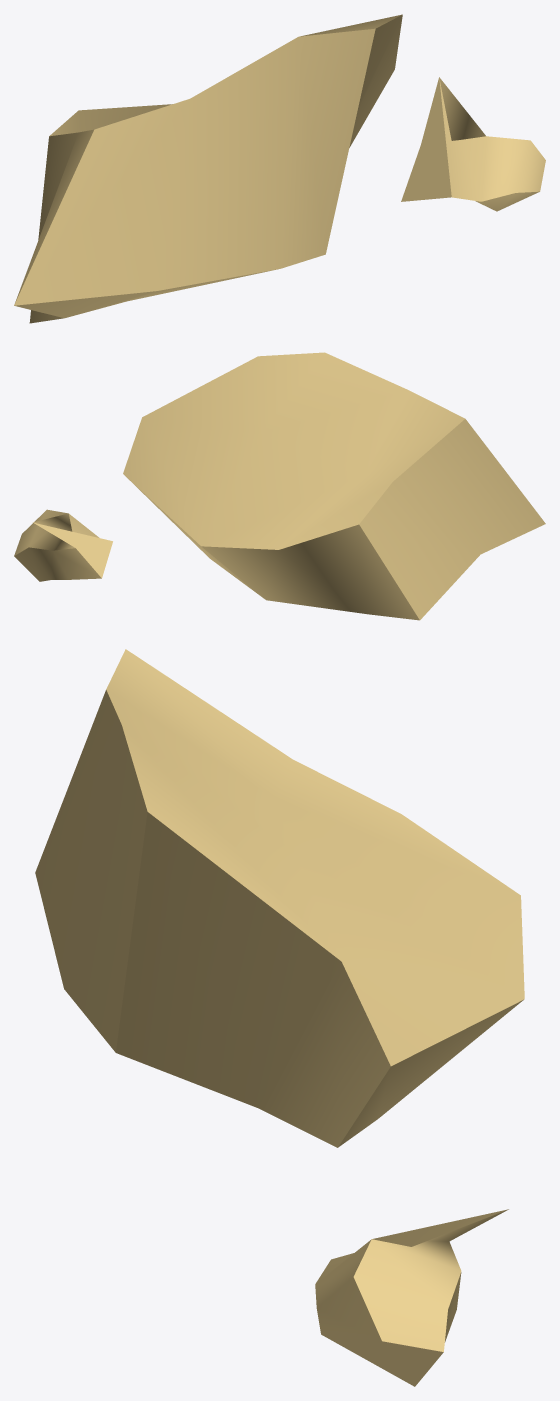
File: crumbs2.fbx
3 views of the same model, one above another, from view 1: azimuth 30°, elevation 25°; view 2: azimuth 150°, elevation 25°; view 3: azimuth 270°, elevation 25° (orthographic). The views are drawn at different scales.
Parts seen in each view (by area): view 1: pCube32, pCube33; view 2: pCube32, pCube33; view 3: pCube32, pCube33.
Boxes of the visible parts, x1,y1,x2,y2 form: pCube32: (14,14,402,323); pCube33: (401,77,545,211); pCube32: (123,352,545,620); pCube33: (14,509,112,581); pCube32: (35,649,524,1147); pCube33: (315,1209,508,1386).
Size of the model in its own units: 54.55 by 26.48 by 25.82.
